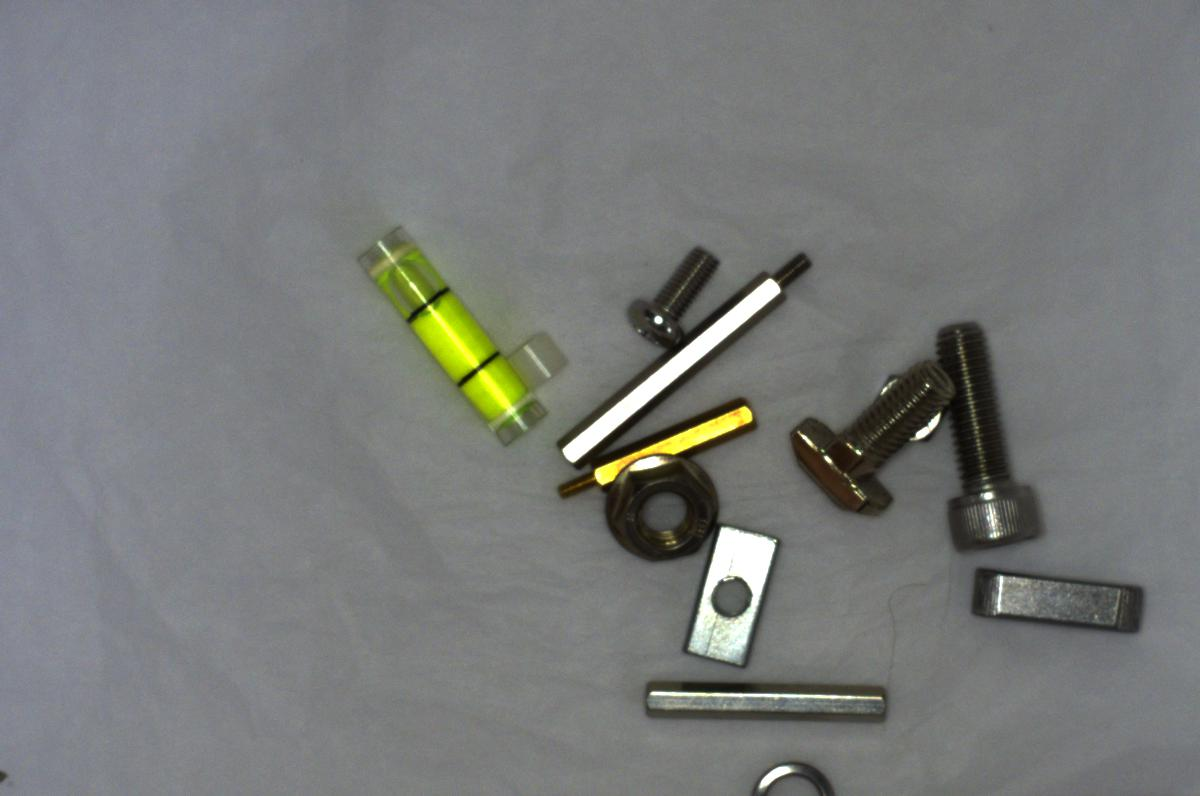Double hexagonal column: (633, 671, 901, 737)
Flange nut: (591, 449, 729, 568)
Hexagon pillar: (556, 400, 770, 498)
Hexagon screw: (929, 315, 1057, 554)
Hexagonal steel column: (537, 242, 838, 485)
Horizontal bubble: (350, 218, 550, 454)
Keybar: (952, 555, 1185, 649)
Plastic cushion pillar: (505, 319, 578, 395)
Rectangular nut: (683, 523, 782, 667)
Round head screw: (608, 230, 720, 344)
T-shaped screw: (788, 355, 955, 528)
